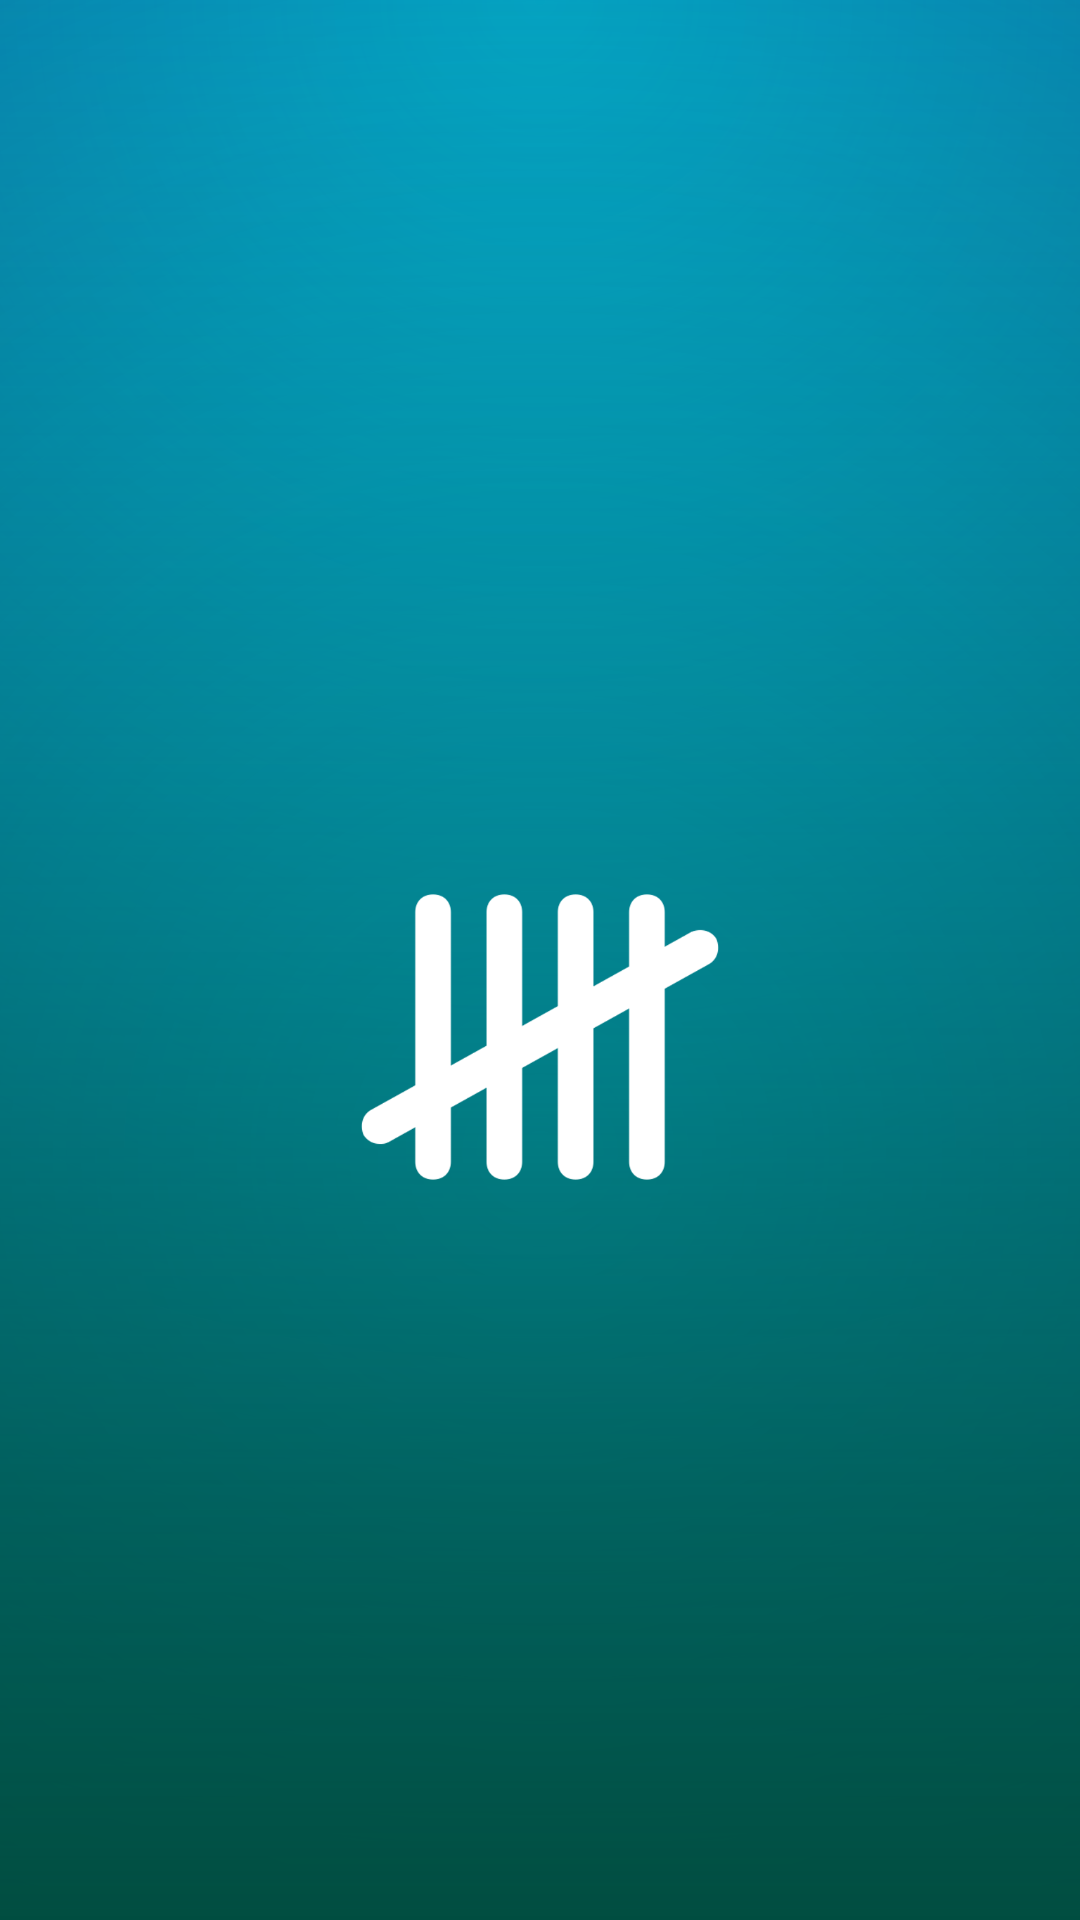

Named icons in this screenshot (1080x1920) and their bounding boxes, rect(x1, y1, x2, y2):
count: rect(360, 857, 720, 1180)
